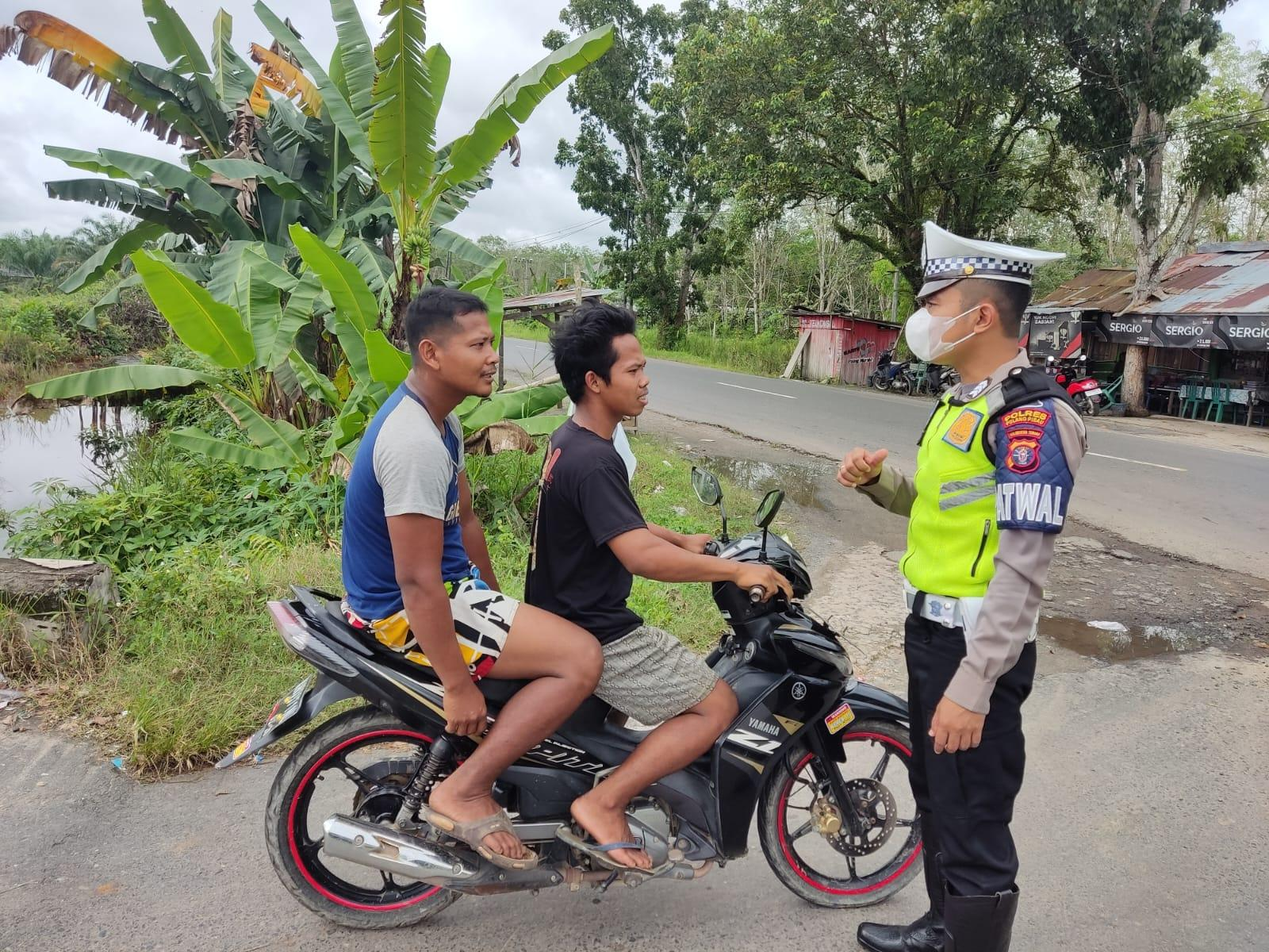nohelmet: (903, 216, 1068, 371), (398, 289, 507, 404), (552, 304, 654, 426)
